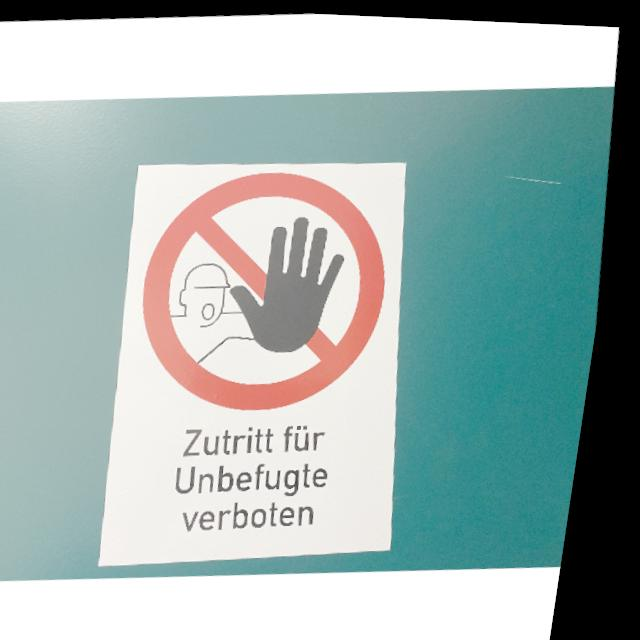No access for unauthorized persons: (128, 156, 413, 419)
